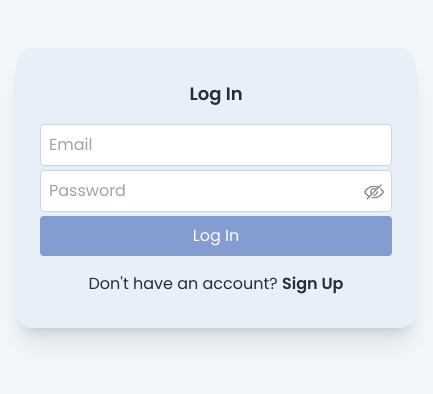
Test: Login Page › displays validation error when email is missing
Click the button "Log In": click(216, 236) [40,216,392,256]
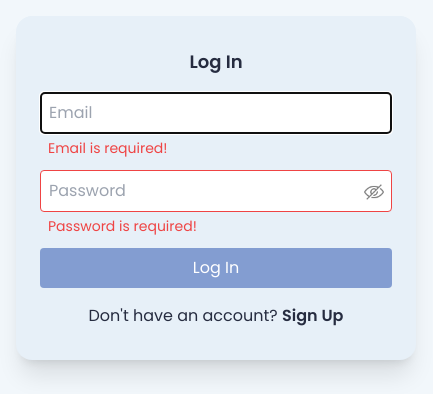
expect the text "Email is required!" is shown: met, box [48,138,168,158]
